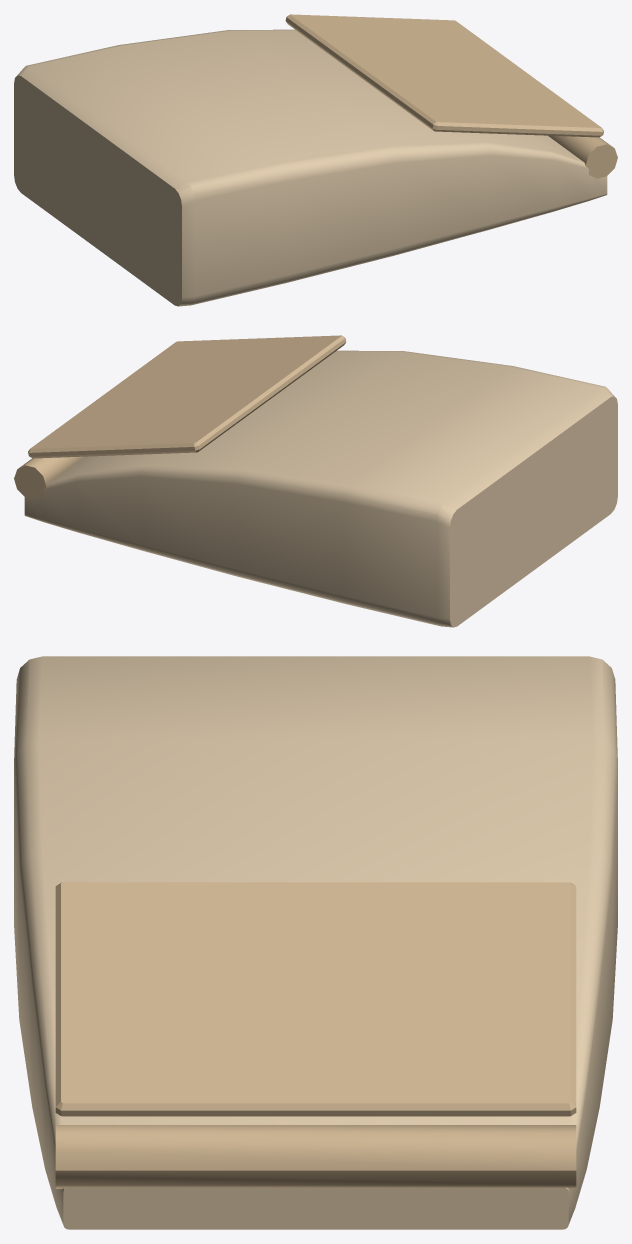
The model's file is fresh-produce-and-groceries-paper-mushroom-bag-2c4d4d3e__24455.glb.
The picture shows the model from 3 angles, top to bottom: view 1: azimuth 30°, elevation 25°; view 2: azimuth 150°, elevation 25°; view 3: azimuth 270°, elevation 25°; orthographic projection. The views are drawn at different scales.
Visible parts, largest first — view 1: paper-mushroom-bag; view 2: paper-mushroom-bag; view 3: paper-mushroom-bag.
Boxes of the visible parts, <box> form: paper-mushroom-bag: <box>14,14,617,306</box>; paper-mushroom-bag: <box>14,335,617,627</box>; paper-mushroom-bag: <box>14,656,617,1229</box>.
Size of the model in its own units: 0.1712 by 0.045 by 0.116.
